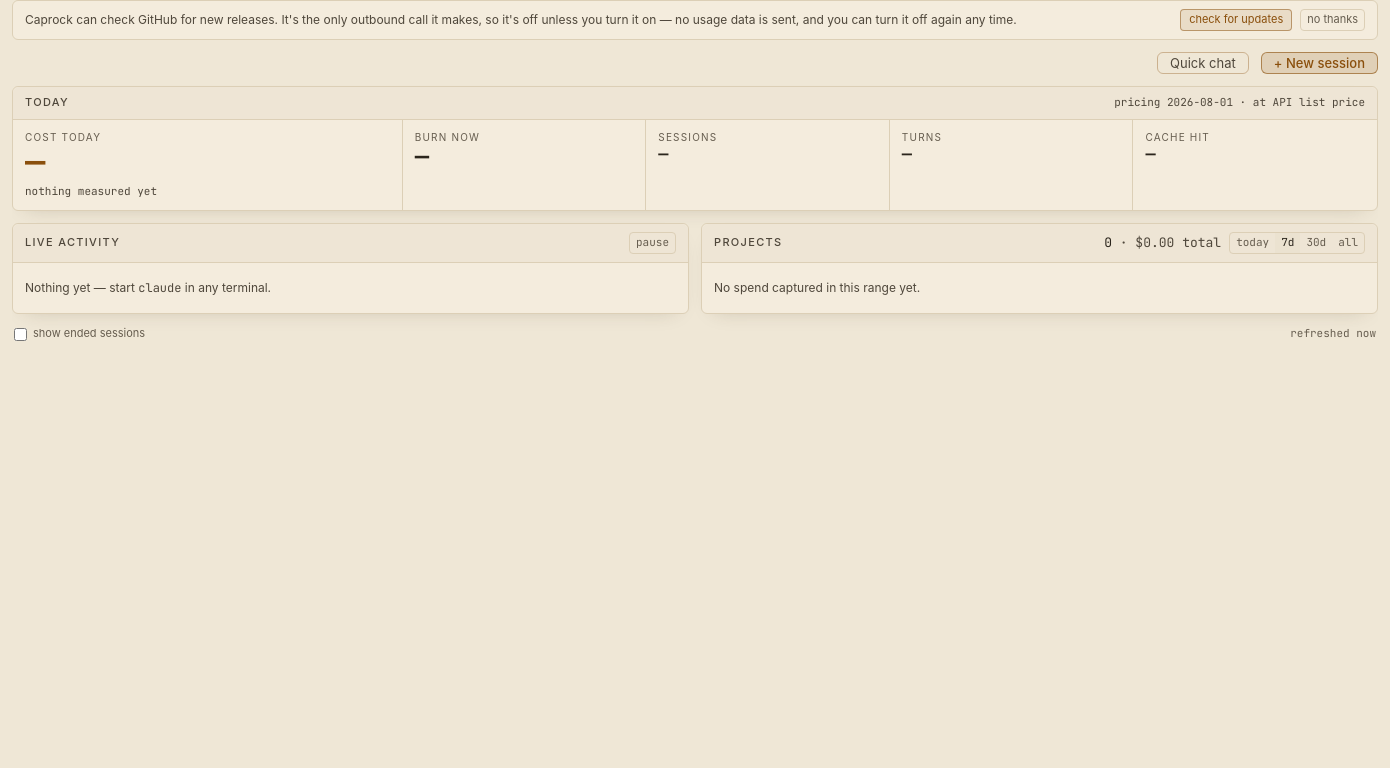
Test: says when the ended list is only part of what there is
Click the checkbox labelled "show ended sessions".
click(20, 334)  # box [14,328,27,341]
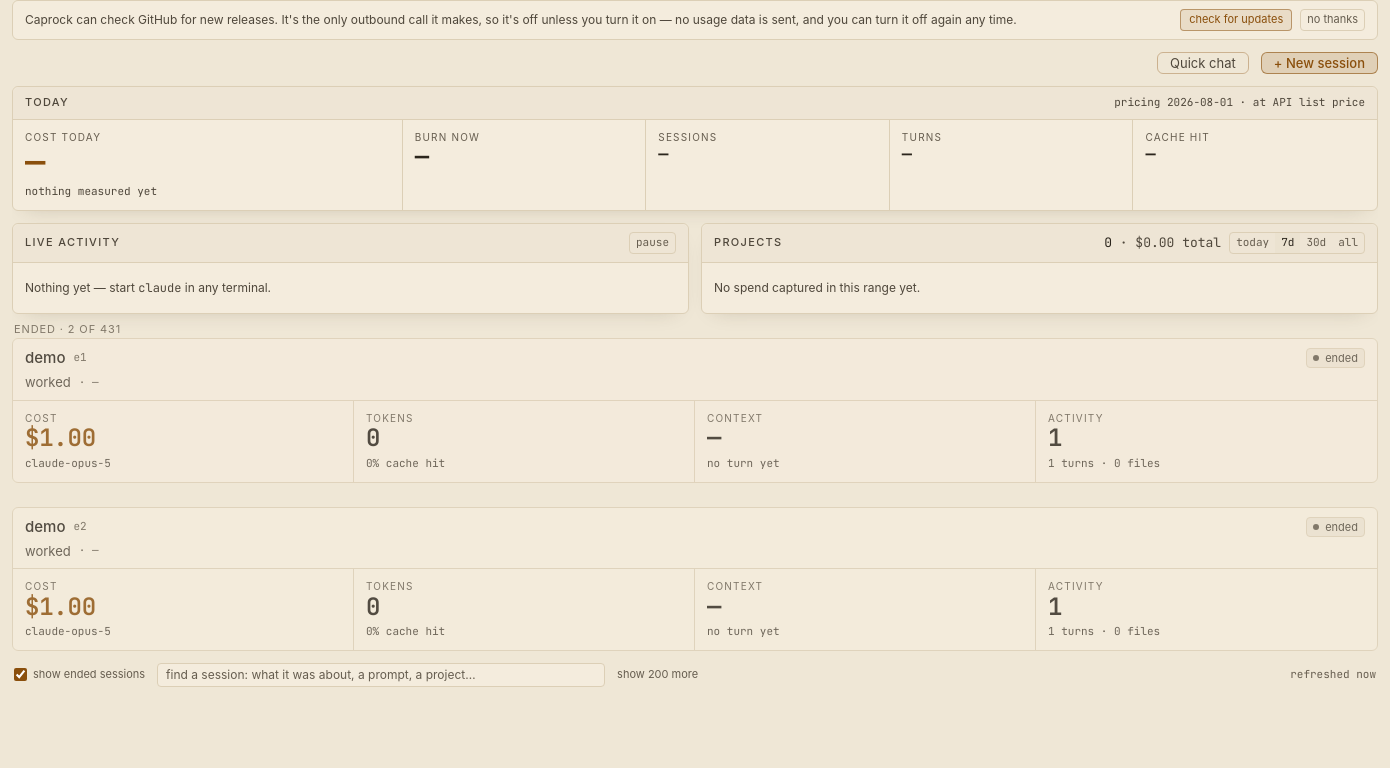
expect the text "Ended · 2 of 431" is shown: met, box [14,322,121,338]
